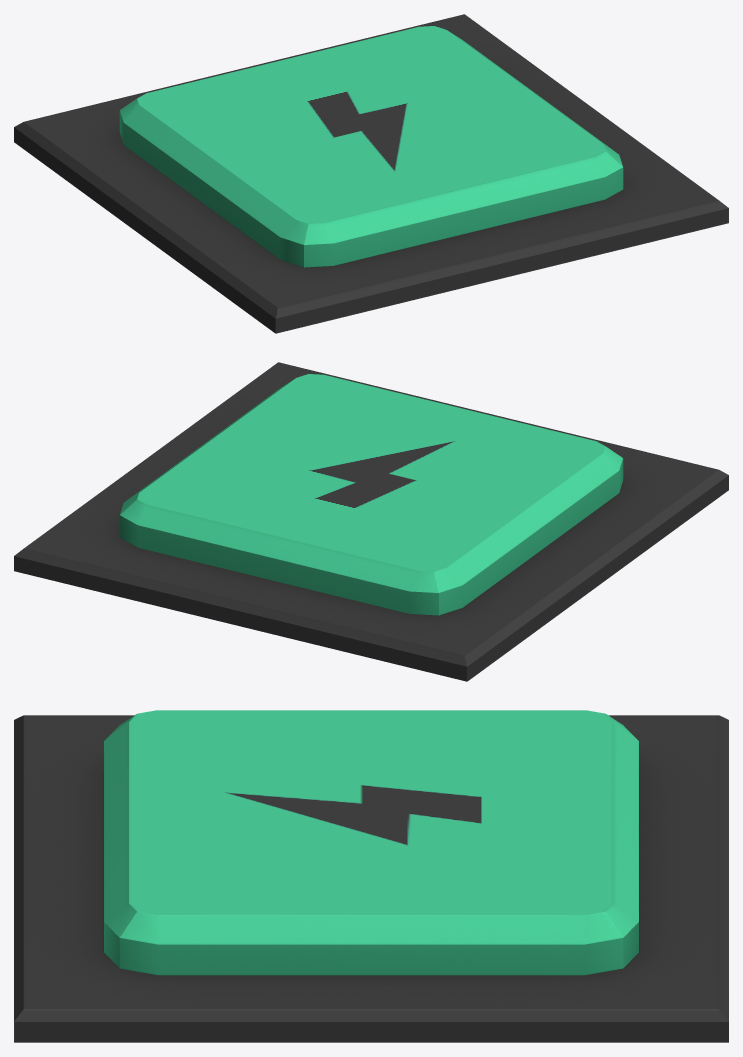
The model's file is button.fbx.
3 renders of one model, top to bottom at view 1: azimuth 30°, elevation 25°; view 2: azimuth 150°, elevation 25°; view 3: azimuth 270°, elevation 25°, orthographic. The views are drawn at different scales.
Visible parts, largest first — view 1: polySurface1, polySurface2; view 2: polySurface1, polySurface2; view 3: polySurface1, polySurface2.
Part boxes in pixels (x1,y1,x2,y2): polySurface1: (119,26,623,267); polySurface2: (14,14,728,333); polySurface1: (119,374,623,615); polySurface2: (14,362,728,681); polySurface1: (104,710,638,975); polySurface2: (14,715,728,1042).
Size of the model in its own units: 6.21 by 0.7561 by 6.21.
Materials: 1 (1 with a texture image).
